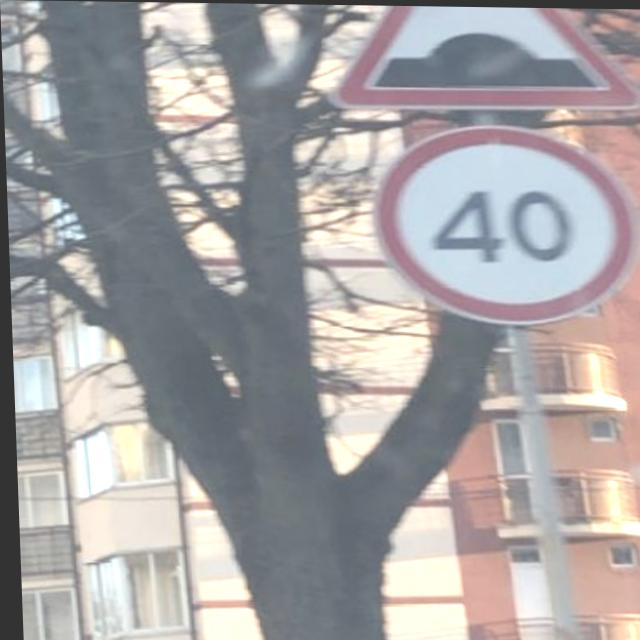limit40: (359, 107, 640, 330)
